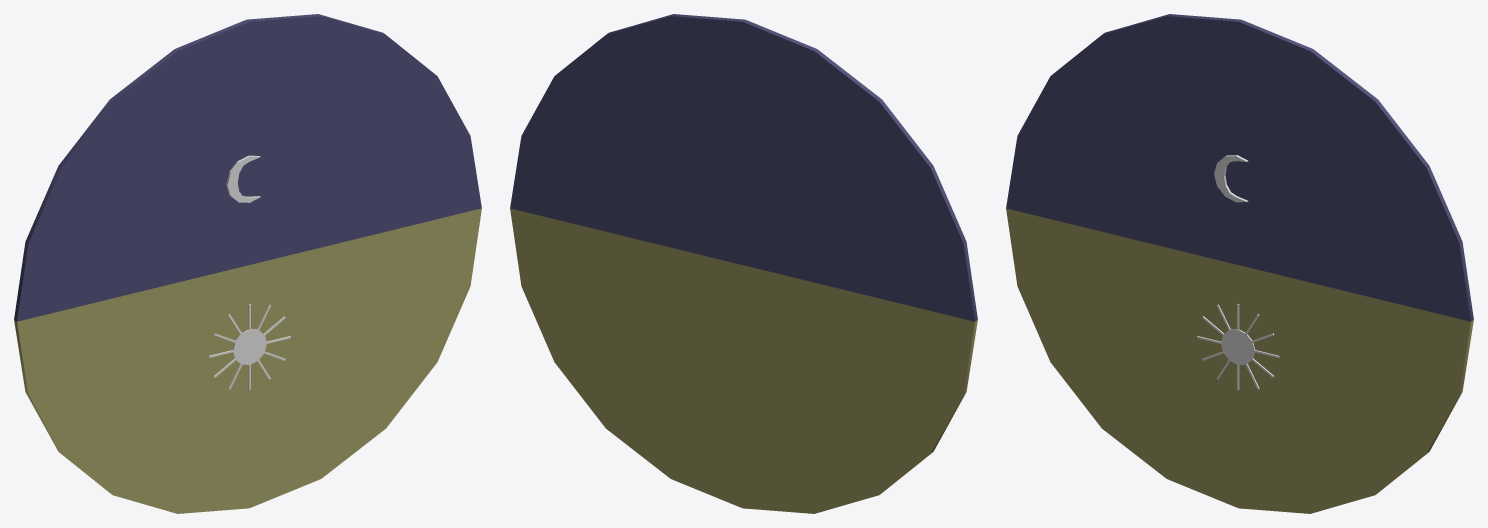
The model's file is diaNit01.fbx.
3 renders of one model, left to right at view 1: azimuth 30°, elevation 25°; view 2: azimuth 150°, elevation 25°; view 3: azimuth 330°, elevation 25°, orthographic.
Parts seen in each view (by area): view 1: diaNit01; view 2: diaNit01; view 3: diaNit01.
Boxes of the visible parts, x1,y1,x2,y2 form: diaNit01: (14,14,481,513); diaNit01: (510,14,977,513); diaNit01: (1006,14,1473,513).
Bounding box in the file's own units: 67.07 × 67.07 × 1.08.
